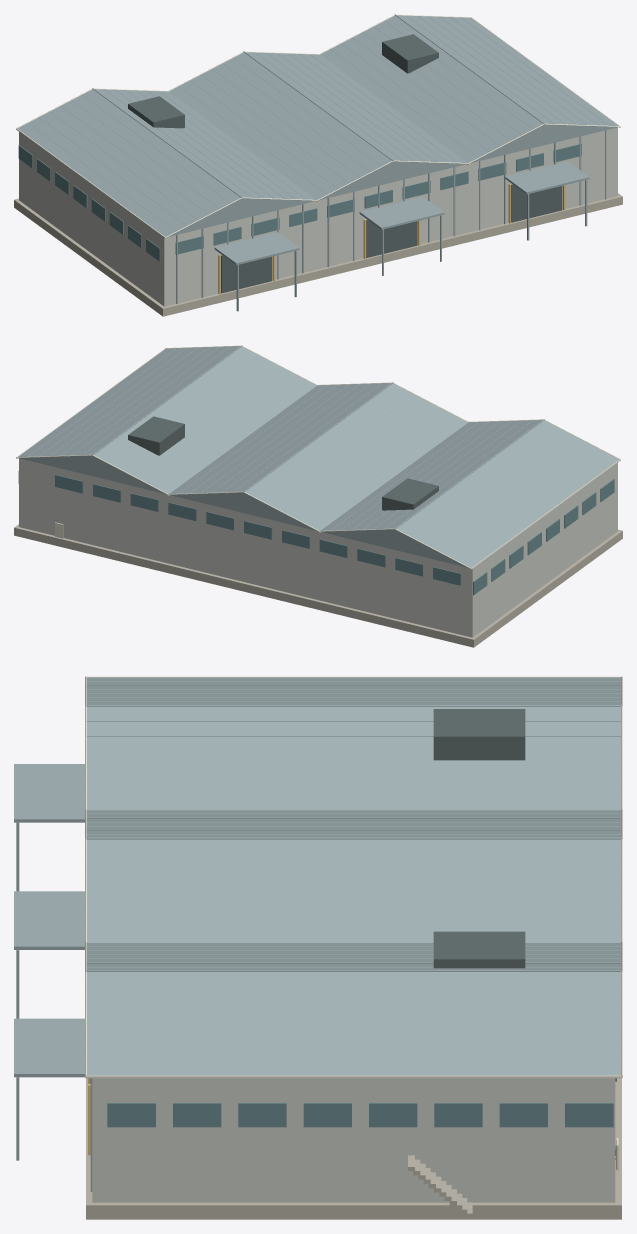
3 renders of one model, top to bottom at view 1: azimuth 30°, elevation 25°; view 2: azimuth 150°, elevation 25°; view 3: azimuth 270°, elevation 25°, orthographic. The views are drawn at different scales.
Size of the model in its own units: 74.65 by 15.5 by 46.58.
